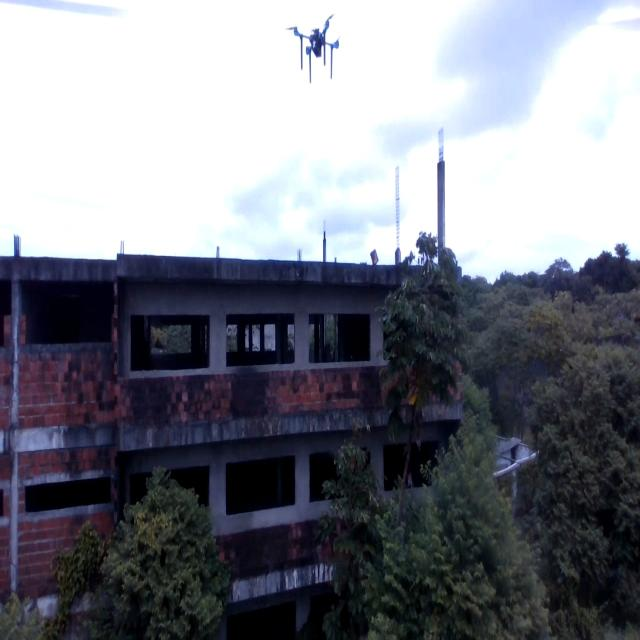-uav-: (280, 6, 347, 89)
